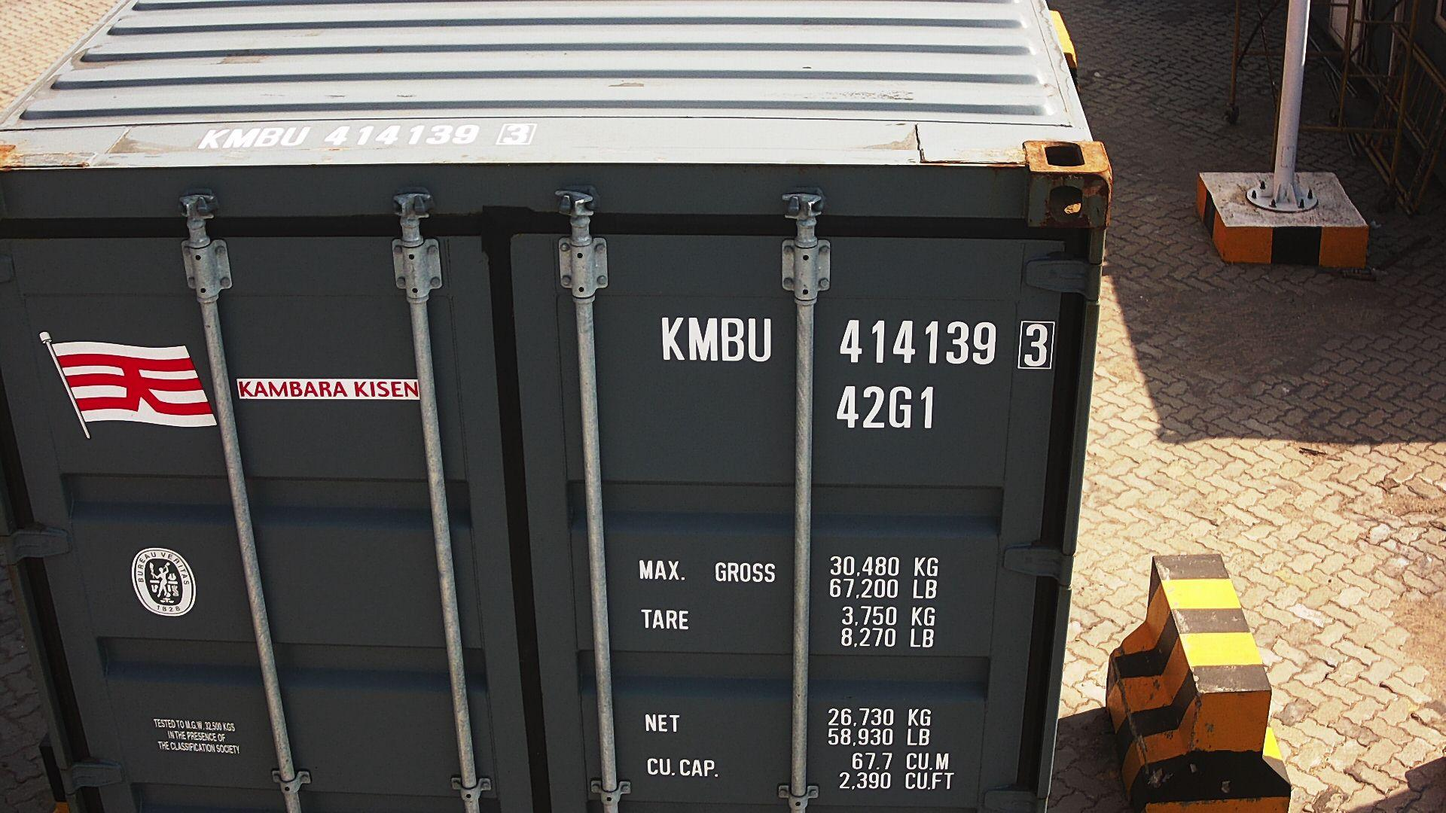container-numbers: (655, 312, 1060, 375), (188, 120, 540, 151), (831, 382, 939, 433)
